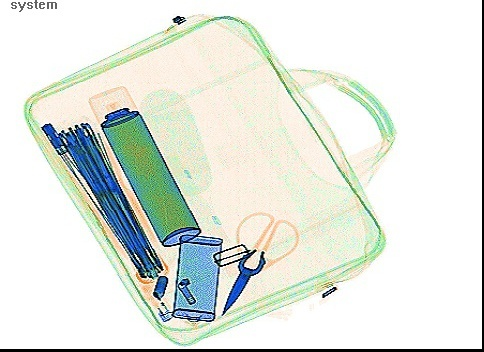lighter: (136, 273, 172, 322)
pressure: (86, 83, 202, 245)
scissors: (221, 210, 298, 316)
zippooil: (170, 230, 224, 321)
